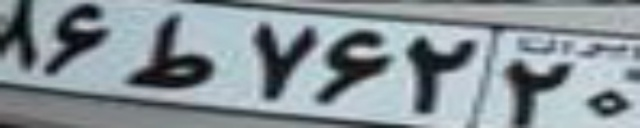0: (585, 88, 628, 117)
2: (403, 34, 481, 114), (502, 57, 570, 126)
6: (317, 26, 390, 105), (43, 3, 106, 76)
7: (246, 18, 316, 101)
8: (0, 0, 37, 73)
taa: (123, 11, 215, 89)
